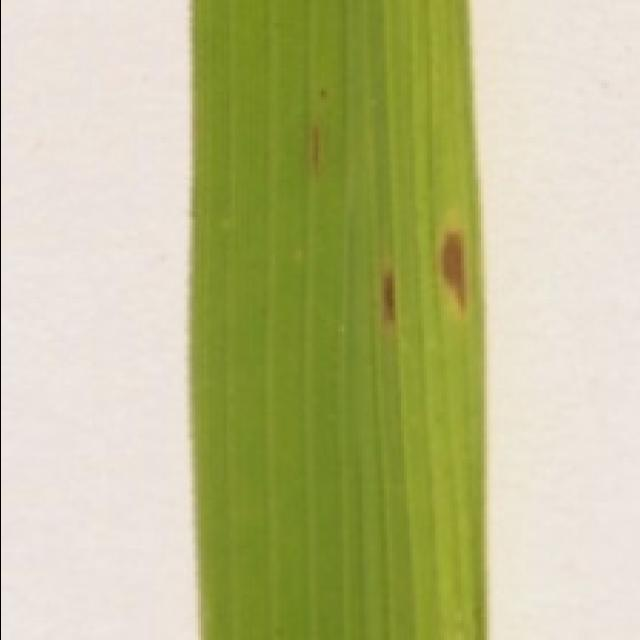Unhealthy: (435, 225, 469, 319), (379, 270, 395, 330), (312, 124, 320, 180), (317, 88, 327, 99)
